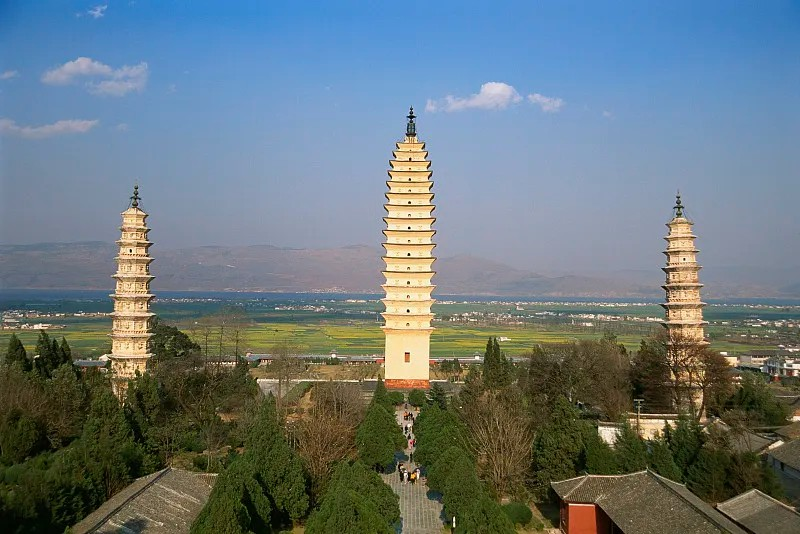ThreePagoda: (379, 103, 437, 379)
